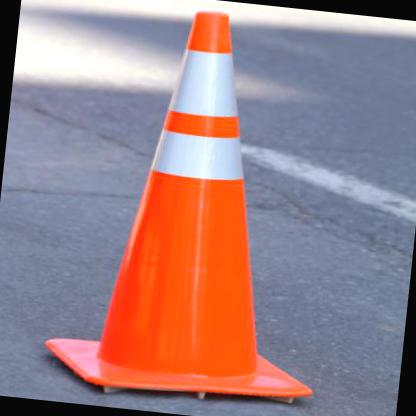cone: (42, 0, 354, 408)
